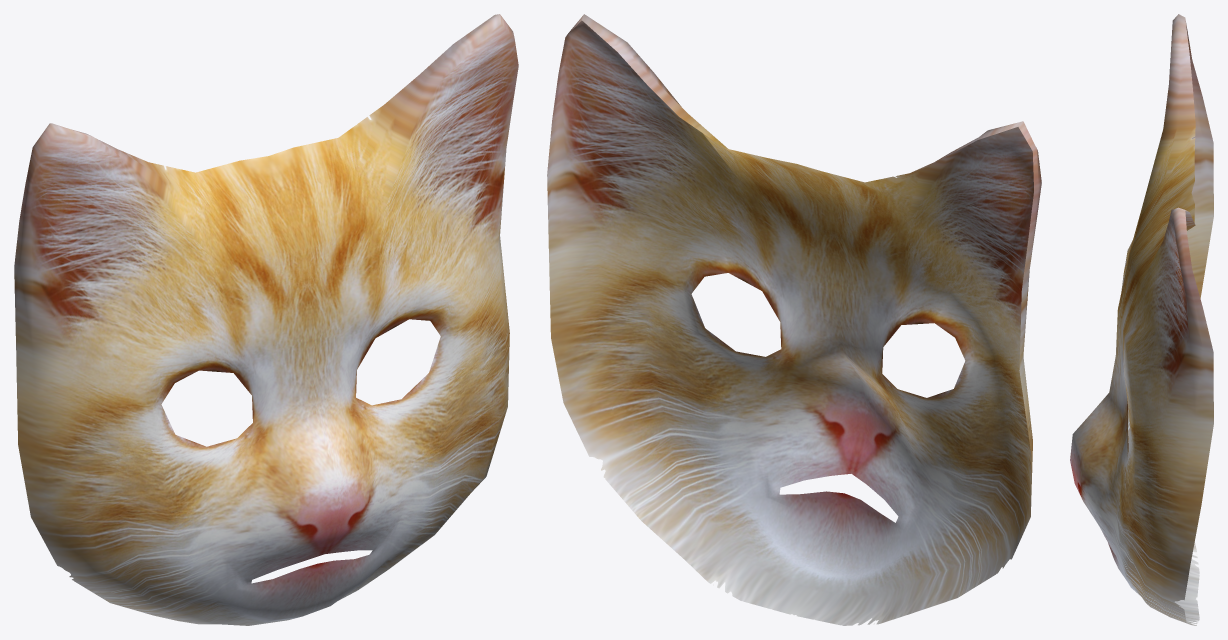
File: cat_face.fbx
The picture shows the model from 3 angles, left to right: view 1: azimuth 30°, elevation 25°; view 2: azimuth 150°, elevation 25°; view 3: azimuth 270°, elevation 25°; orthographic projection. The views are drawn at different scales.
Visible parts, largest first — view 1: cat_face; view 2: cat_face; view 3: cat_face.
Part boxes in pixels (x1,y1,x2,y2): cat_face: (14,14,518,625); cat_face: (547,14,1041,625); cat_face: (1070,14,1213,625).
Bounding box in the file's own units: 213 × 229 × 61.11.
Materials: 1 (1 with a texture image).
